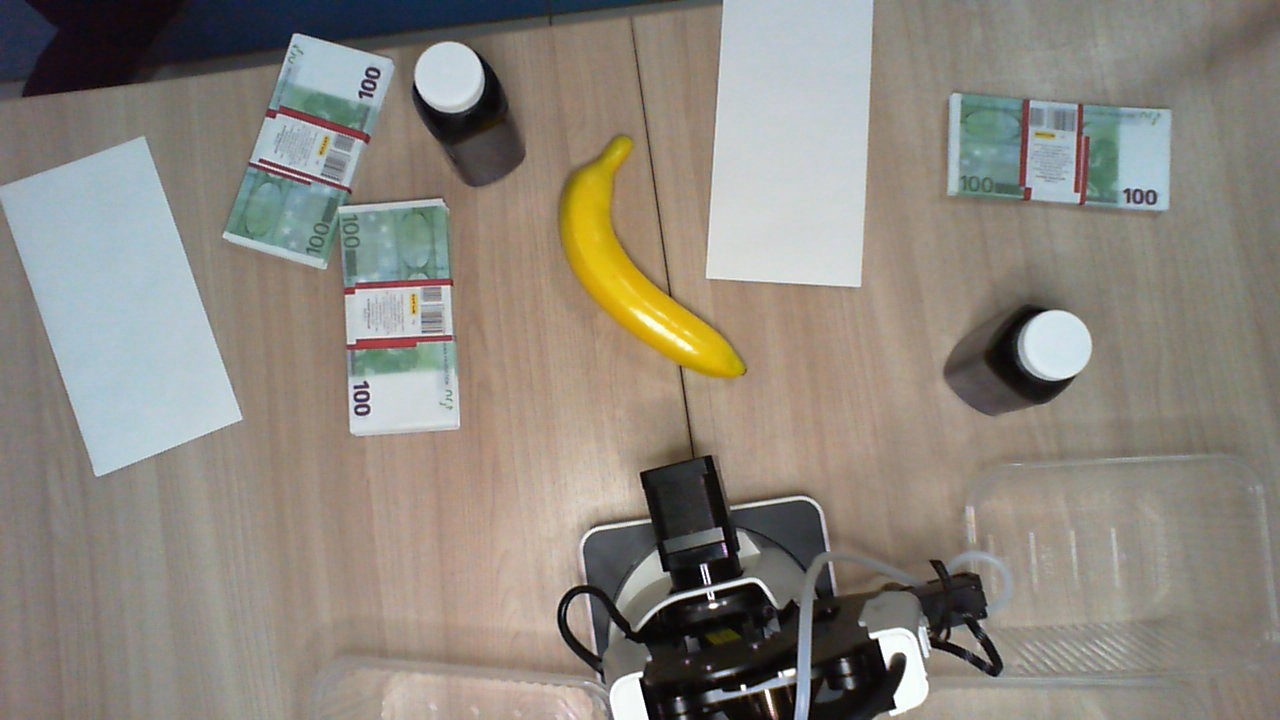banana: (557, 129, 752, 389)
bottle: (988, 302, 1092, 399), (412, 35, 506, 130)
convert: (1, 136, 247, 477), (705, 1, 874, 290)
money: (222, 33, 397, 267), (339, 197, 460, 439), (943, 89, 1171, 212)
